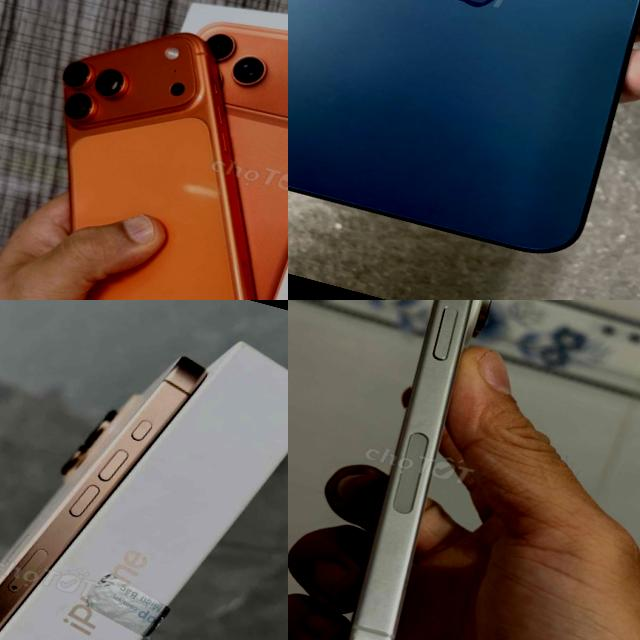gen_12_13: (288, 0, 640, 272)
gen_15: (288, 300, 559, 640)
gen_16: (0, 300, 211, 640)
gen_17: (0, 0, 288, 300)
